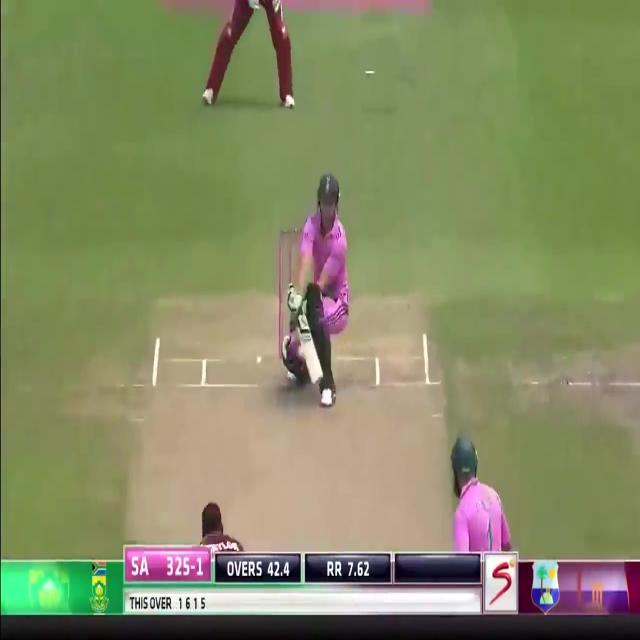Ball: (277, 175, 351, 403), (449, 439, 513, 553)
Fielder: (202, 1, 304, 119)
